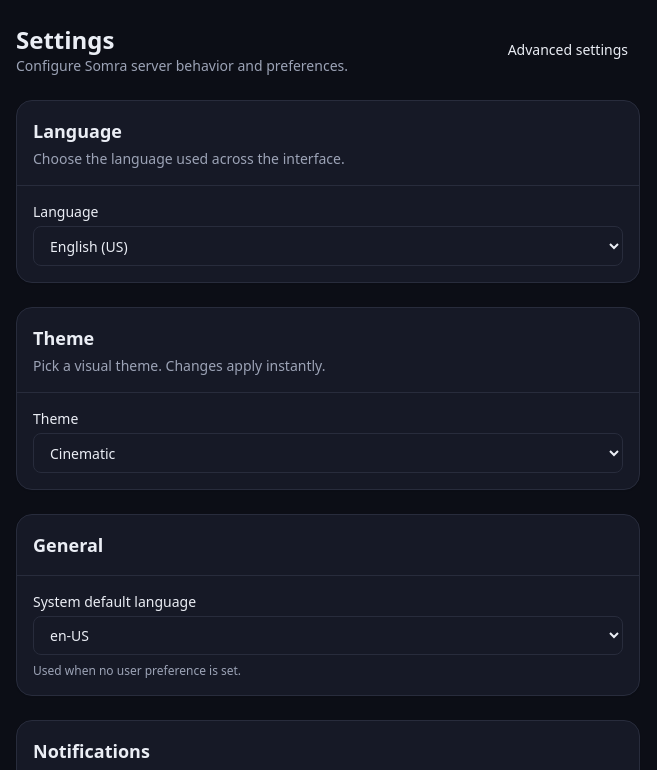
Test case: <SettingsPage /> › shows HW acceleration controls in advanced mode
What coordinates should you click on to do the following:
click the button "Advanced settings"
I would click on:
 (568, 50)
Its box is top-left (496, 34), bottom-right (640, 66).
(page scrolled)
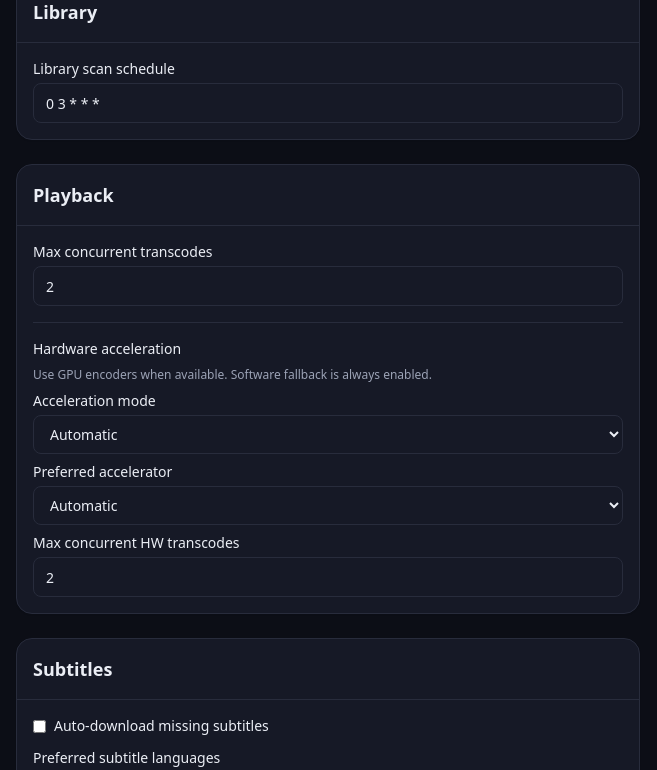
Result: the heading "Hardware acceleration" is shown at top-left (33, 339), bottom-right (181, 358)
Result: the text "Acceleration mode" is shown at top-left (33, 391), bottom-right (156, 410)
